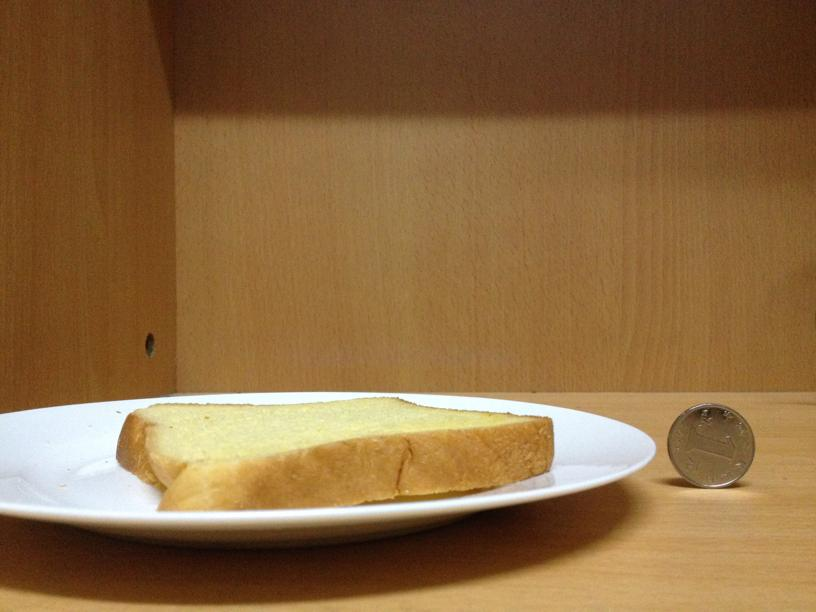bread: (120, 393, 554, 512)
coin: (665, 400, 754, 488)
